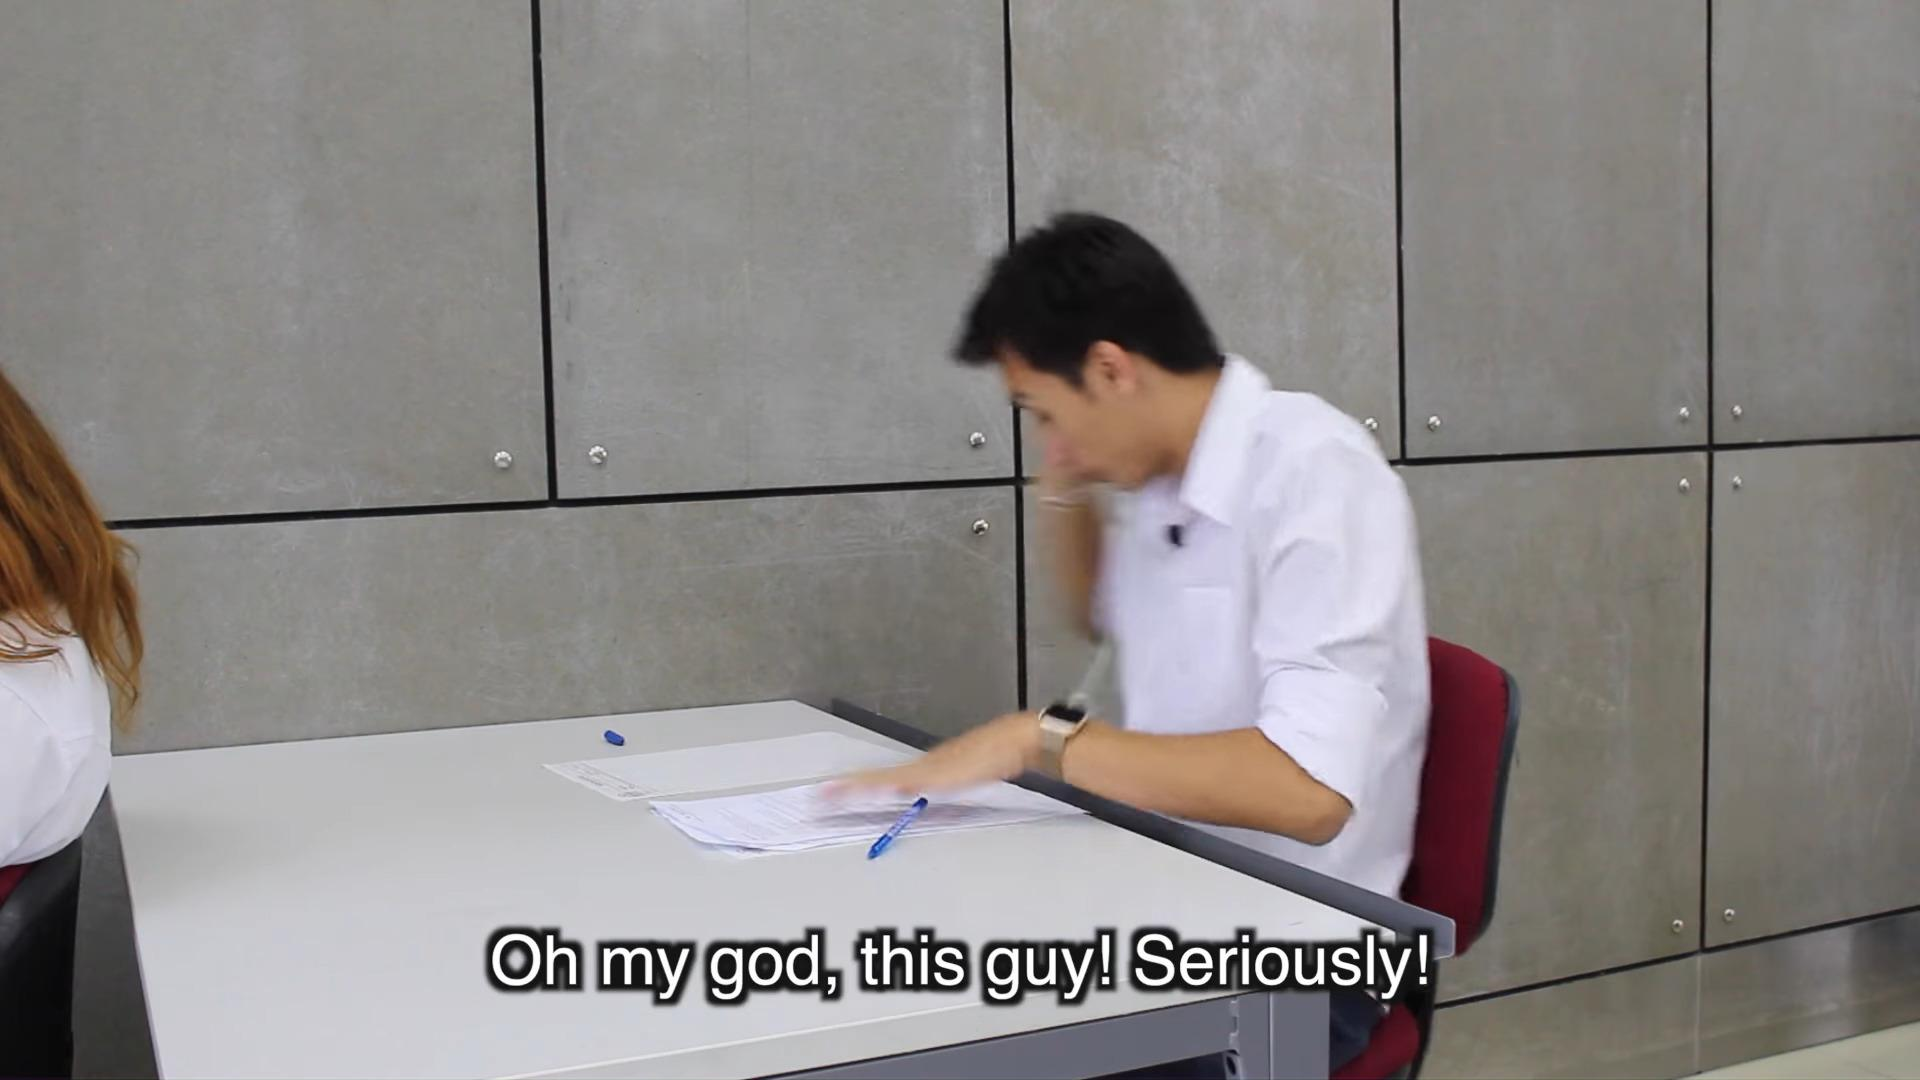cheating: (518, 193, 1451, 905)
